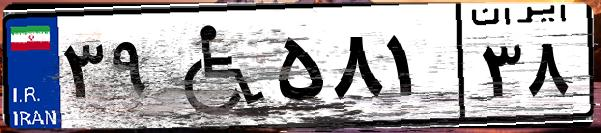1: (385, 28, 445, 110)
3: (57, 26, 110, 100), (475, 38, 525, 113)
5: (270, 28, 330, 110)
8: (330, 28, 385, 110), (525, 38, 570, 115)
9: (110, 28, 158, 98)
ژ (معلولین و جانبازان): (158, 12, 270, 120)
